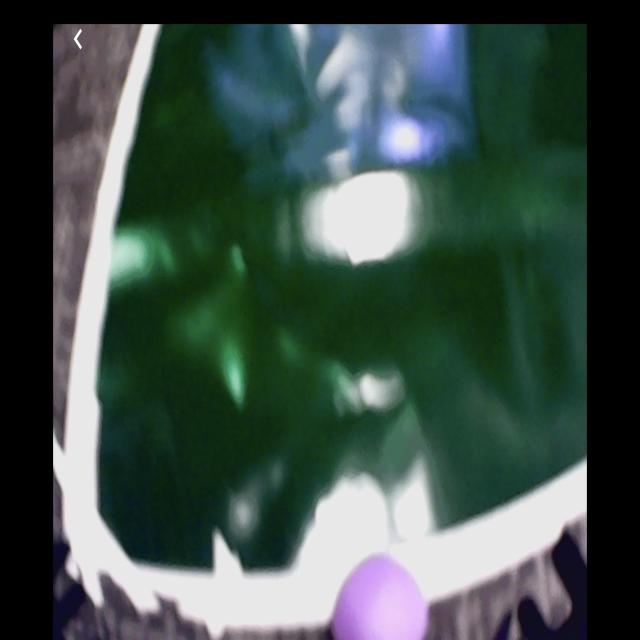ball: (333, 555, 433, 640)
